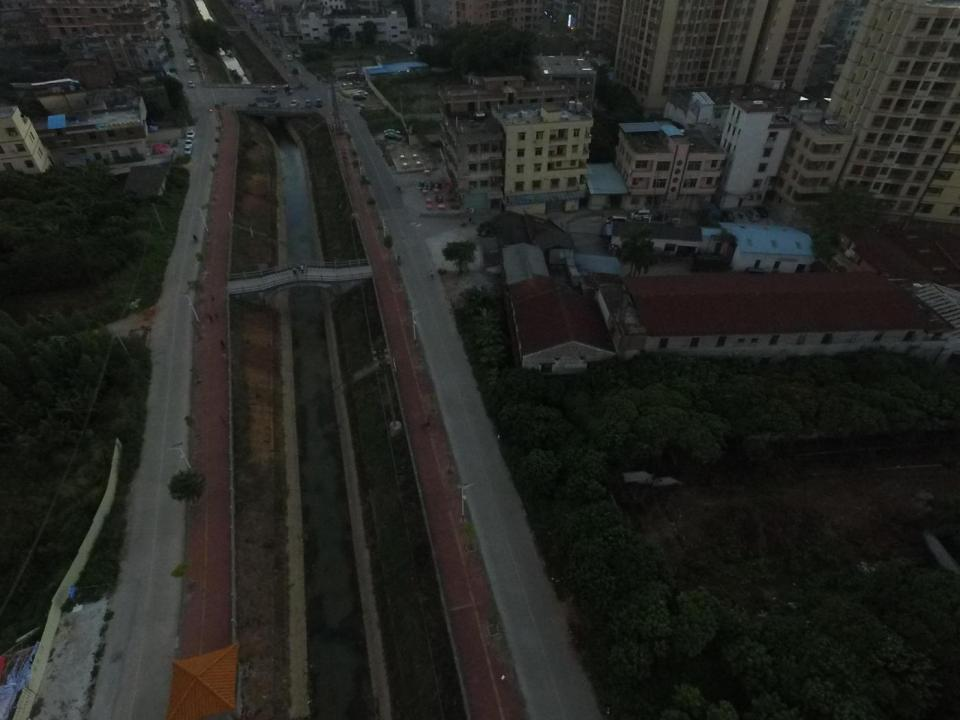car: (629, 207, 651, 220), (383, 132, 402, 141), (382, 127, 401, 136), (351, 94, 368, 101), (186, 129, 195, 139), (289, 98, 298, 108), (183, 145, 191, 155), (304, 98, 312, 108), (354, 90, 367, 96), (184, 139, 192, 148), (315, 98, 322, 108), (186, 80, 194, 88), (261, 84, 268, 92), (270, 84, 277, 92), (247, 14, 252, 20)
truck: (187, 58, 196, 72)
van: (605, 214, 627, 226), (285, 54, 292, 61)
